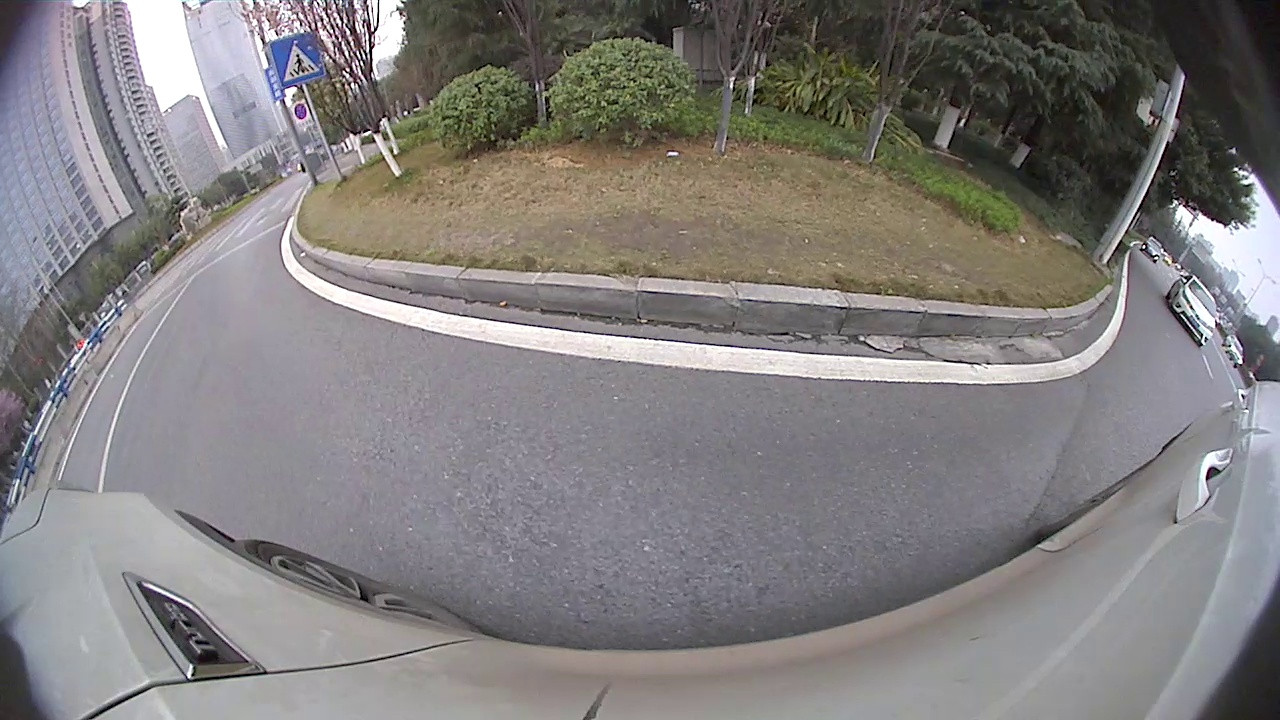bus: (771, 129, 961, 218)
car: (970, 166, 1213, 331), (569, 121, 738, 243), (1155, 319, 1279, 460), (423, 152, 540, 226), (737, 149, 857, 219)
front: (976, 222, 1002, 254), (527, 180, 540, 206)
rear: (1122, 288, 1159, 331), (487, 183, 512, 219), (760, 183, 775, 213)
